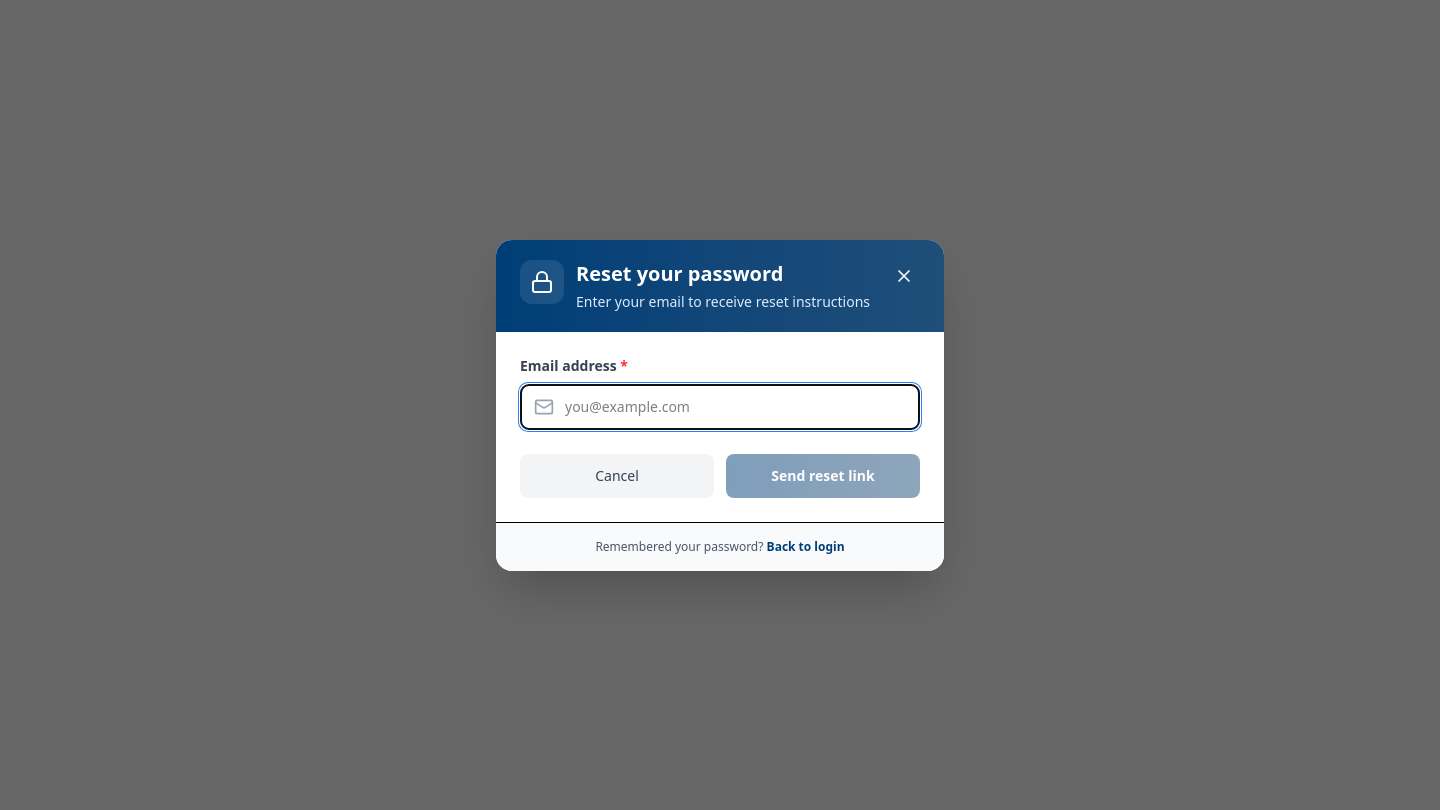
it: submit button is enabled when identifier is entered
The width and height of the screenshot is (1440, 810).
Expected: the button "Send reset link" is disabled, x1=726 y1=454 x2=920 y2=498
Type "user@sdsync.com" into the field with placeholder "you@example.com". click: (720, 406)
box: x1=520 y1=384 x2=920 y2=430
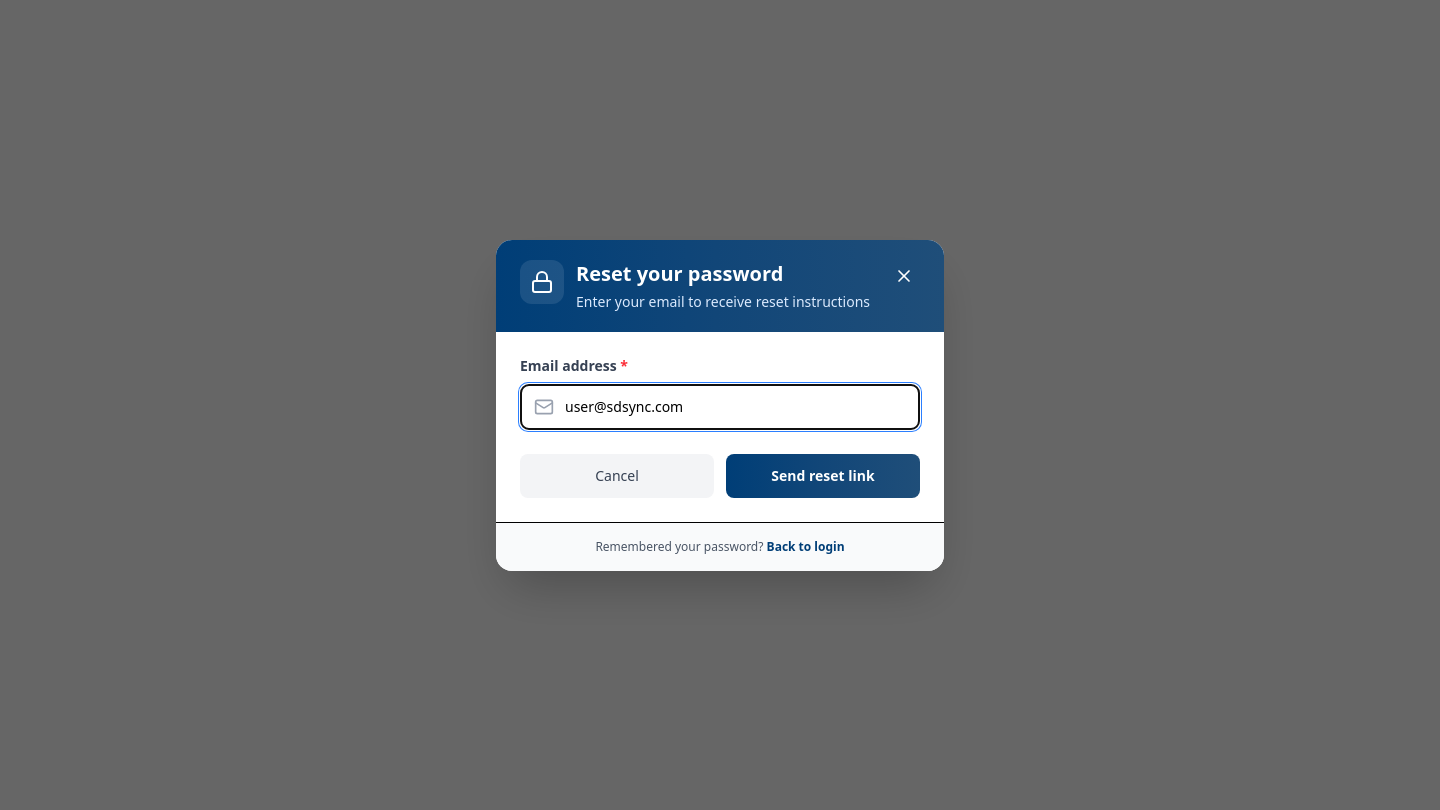
Expected: the button "Send reset link" is enabled, x1=726 y1=454 x2=920 y2=498
